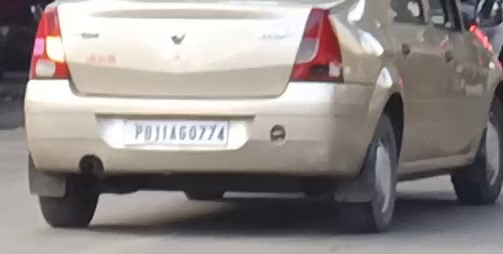PB11AG0774: (123, 115, 231, 146)
